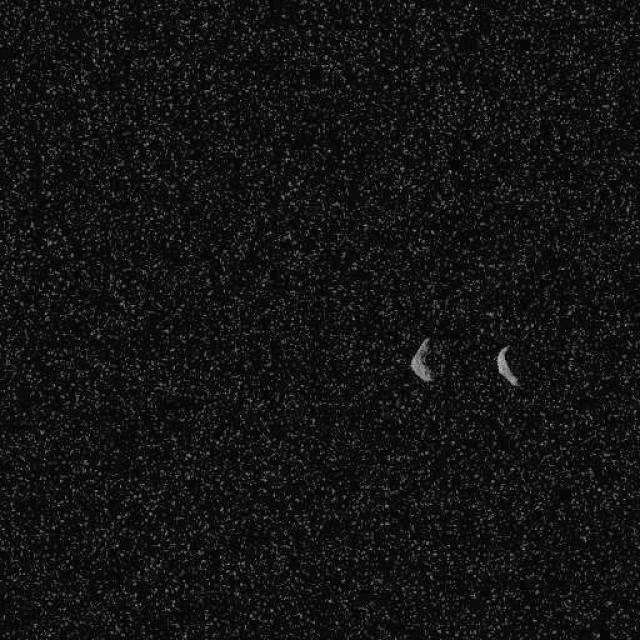D2: (409, 336, 435, 384), (495, 343, 521, 388)
